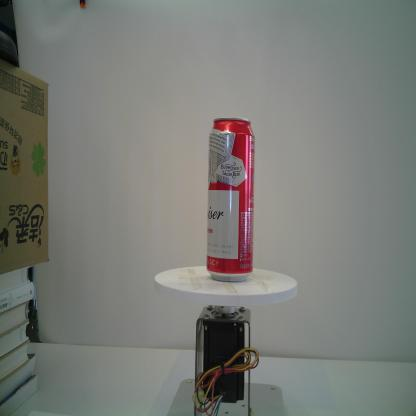Alcohol: (206, 116, 256, 284)
